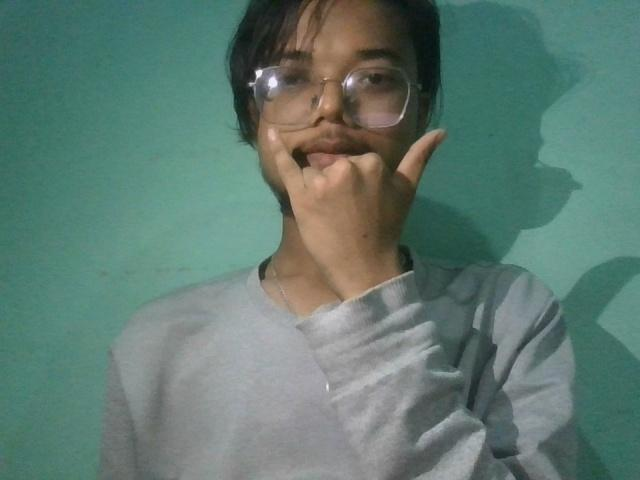Wrong: (241, 110, 463, 311)
